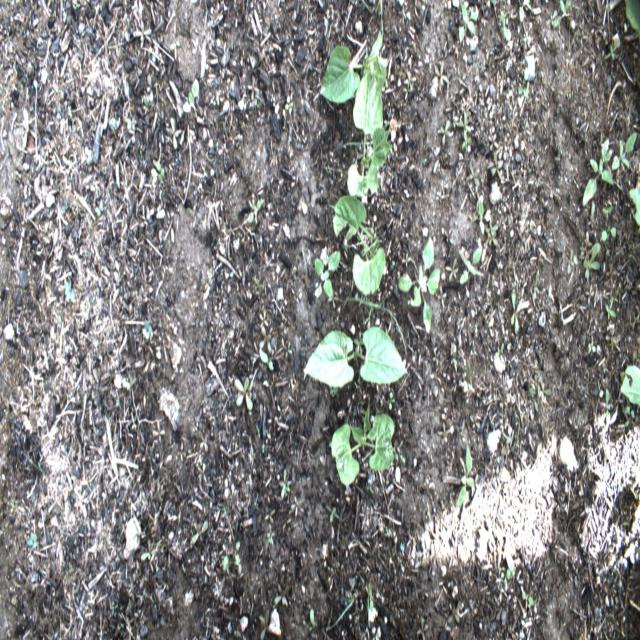crop: (303, 327, 408, 387), (346, 73, 392, 202), (333, 194, 385, 295), (330, 403, 394, 484), (321, 30, 387, 104), (620, 364, 640, 406), (624, 0, 640, 38), (628, 187, 640, 227)
weed: (398, 236, 441, 332), (343, 296, 407, 358), (582, 140, 614, 204), (314, 250, 341, 298), (456, 445, 475, 506), (321, 596, 354, 630), (510, 287, 531, 335), (612, 132, 638, 170), (580, 234, 601, 279), (459, 246, 483, 284), (459, 4, 479, 46), (469, 199, 491, 235), (234, 377, 253, 411), (246, 198, 266, 225), (182, 80, 198, 112), (134, 21, 152, 48), (190, 519, 208, 545), (554, 0, 571, 27), (168, 118, 182, 149), (459, 110, 472, 141), (440, 118, 454, 146), (274, 583, 290, 607), (278, 468, 290, 499), (466, 162, 480, 188), (259, 326, 272, 354), (365, 582, 373, 627), (140, 538, 156, 560), (604, 295, 618, 320), (359, 0, 382, 15), (447, 600, 461, 624), (445, 258, 459, 282), (151, 160, 165, 184), (491, 152, 503, 180), (501, 9, 511, 41), (259, 610, 270, 639), (327, 286, 340, 310), (259, 348, 273, 370), (518, 0, 532, 22), (22, 107, 29, 150), (435, 65, 449, 86), (567, 249, 578, 275), (234, 540, 242, 574), (500, 568, 511, 592), (65, 278, 75, 304), (324, 506, 340, 522), (500, 435, 512, 456), (529, 388, 539, 413), (604, 385, 611, 420), (601, 226, 616, 242), (198, 431, 209, 452), (437, 285, 447, 308), (404, 72, 416, 91), (402, 81, 414, 100), (604, 44, 618, 60), (485, 220, 498, 237), (624, 406, 635, 426), (309, 607, 318, 631), (538, 381, 550, 399), (352, 148, 364, 166), (141, 321, 152, 340), (517, 86, 530, 102), (353, 330, 366, 346), (462, 130, 471, 153), (170, 40, 180, 60), (147, 73, 154, 101), (522, 590, 534, 606), (264, 508, 276, 524), (534, 373, 542, 396), (588, 202, 595, 228), (533, 270, 539, 300), (488, 133, 498, 151), (285, 94, 293, 116), (462, 64, 473, 80), (283, 339, 292, 358), (259, 310, 268, 329), (222, 555, 230, 575), (494, 342, 504, 358), (27, 532, 37, 548), (84, 146, 92, 166), (387, 390, 395, 410), (432, 348, 440, 367), (387, 546, 396, 562), (587, 340, 596, 356), (126, 377, 137, 390), (488, 233, 498, 247), (95, 201, 104, 216), (444, 229, 453, 244), (550, 10, 558, 26), (452, 110, 459, 128), (466, 357, 471, 382), (157, 542, 168, 553), (602, 206, 614, 215), (267, 532, 271, 546), (150, 593, 154, 605), (566, 93, 572, 101), (392, 453, 398, 461), (73, 3, 80, 9)
